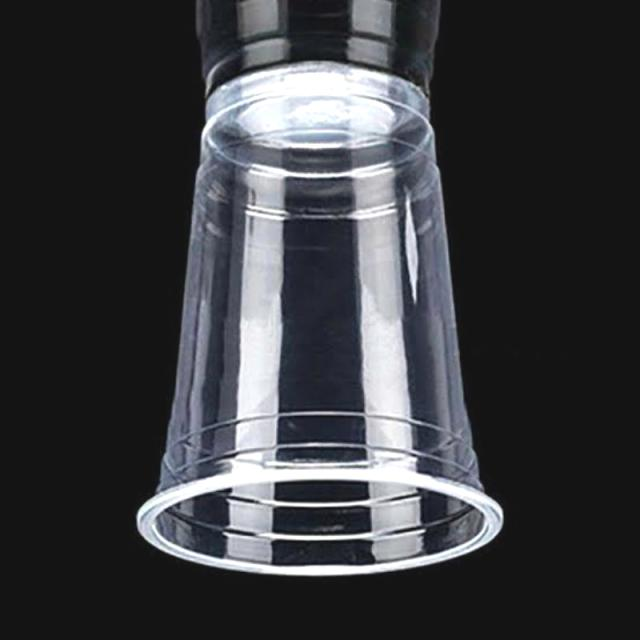Gelas: (124, 42, 518, 595)
